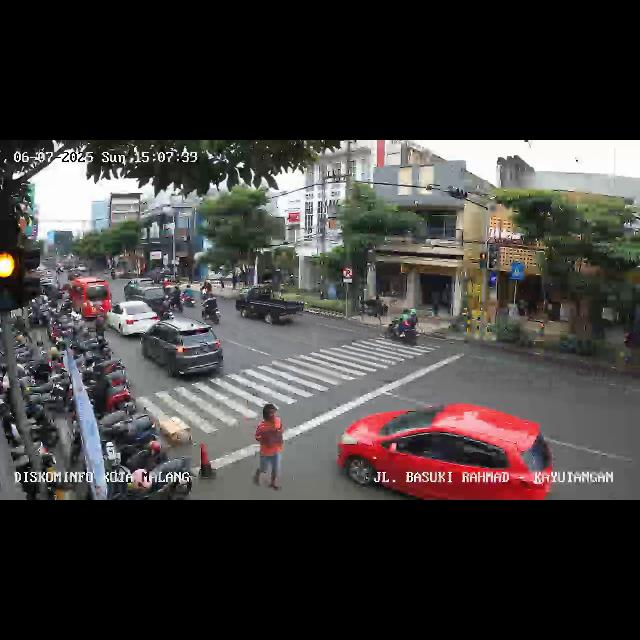car: (338, 404, 556, 500), (142, 320, 226, 380), (236, 284, 304, 324), (108, 300, 160, 340), (64, 277, 110, 319), (128, 286, 168, 310), (124, 278, 152, 296)
motorcycle: (388, 308, 420, 348), (202, 291, 222, 325), (170, 283, 184, 311), (182, 284, 196, 308)
person: (248, 406, 290, 492)
